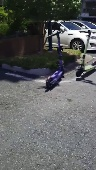beam: (43, 30, 66, 92)
gcooter: (75, 26, 96, 82)
